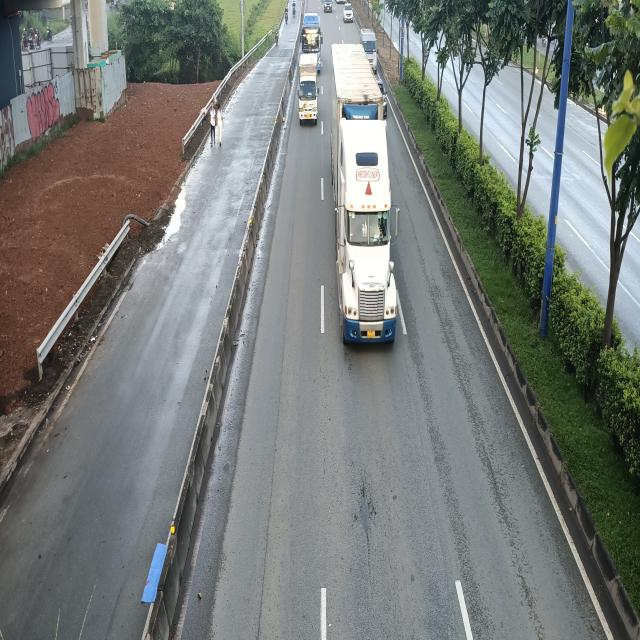car: (344, 2, 354, 22)
coach: (301, 13, 323, 72)
container: (331, 47, 404, 345)
truck: (298, 54, 320, 126)
van: (359, 28, 378, 73)
